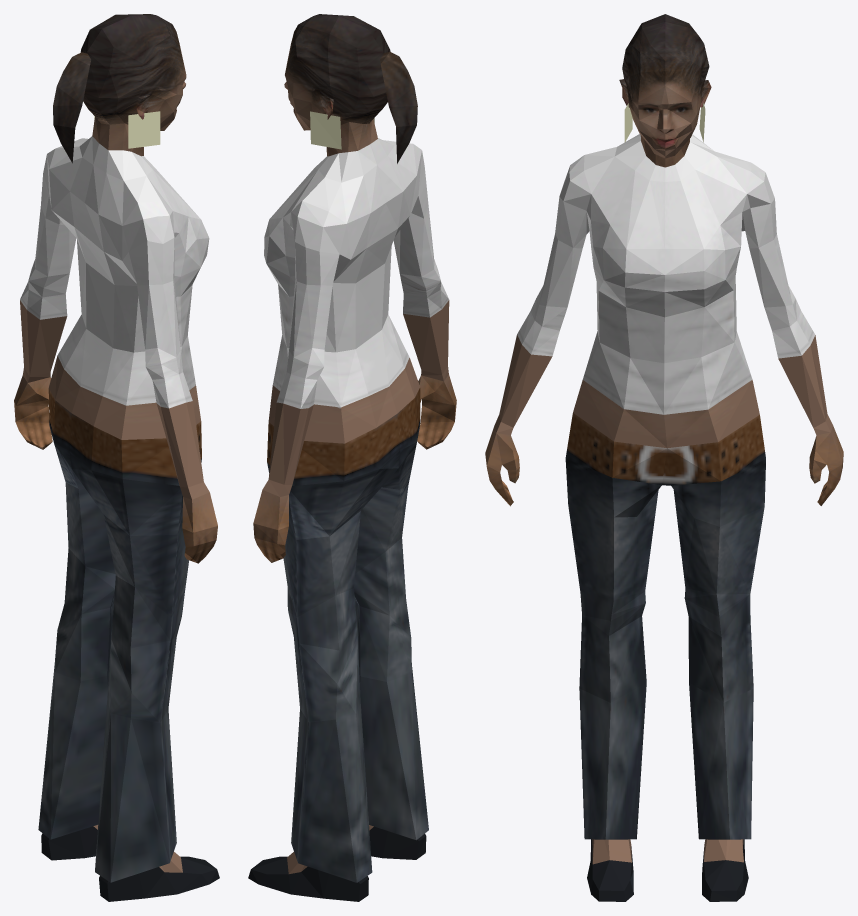
File: swfyst.obj
3 views of the same model, side by side, from view 1: azimuth 30°, elevation 25°; view 2: azimuth 150°, elevation 25°; view 3: azimuth 270°, elevation 25° (orthographic).
Visible parts, largest first — view 1: _Pelvis; view 2: _Pelvis; view 3: _Pelvis.
Part boxes in pixels (x1,y1,x2,y2): _Pelvis: (14,14,219,901); _Pelvis: (248,14,456,901); _Pelvis: (485,14,843,901).
Bounding box in the file's own units: 0.3109 × 1.8 × 0.6856.
Materials: 2 (2 with a texture image).
